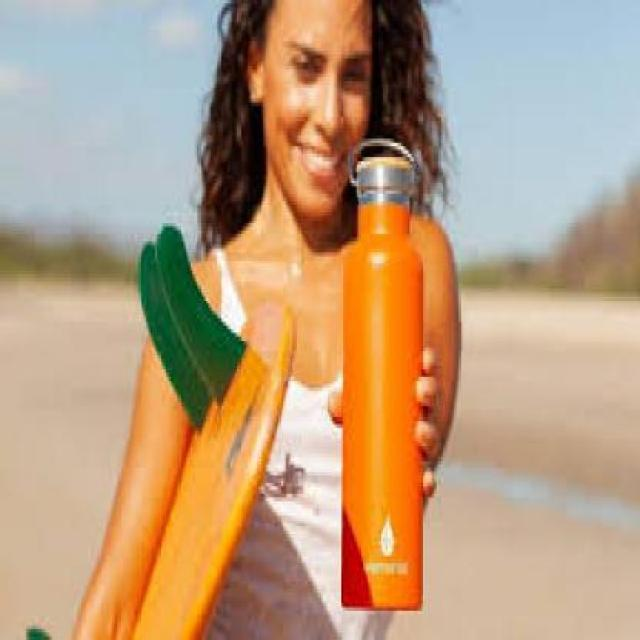Drinking: (335, 121, 436, 625)
